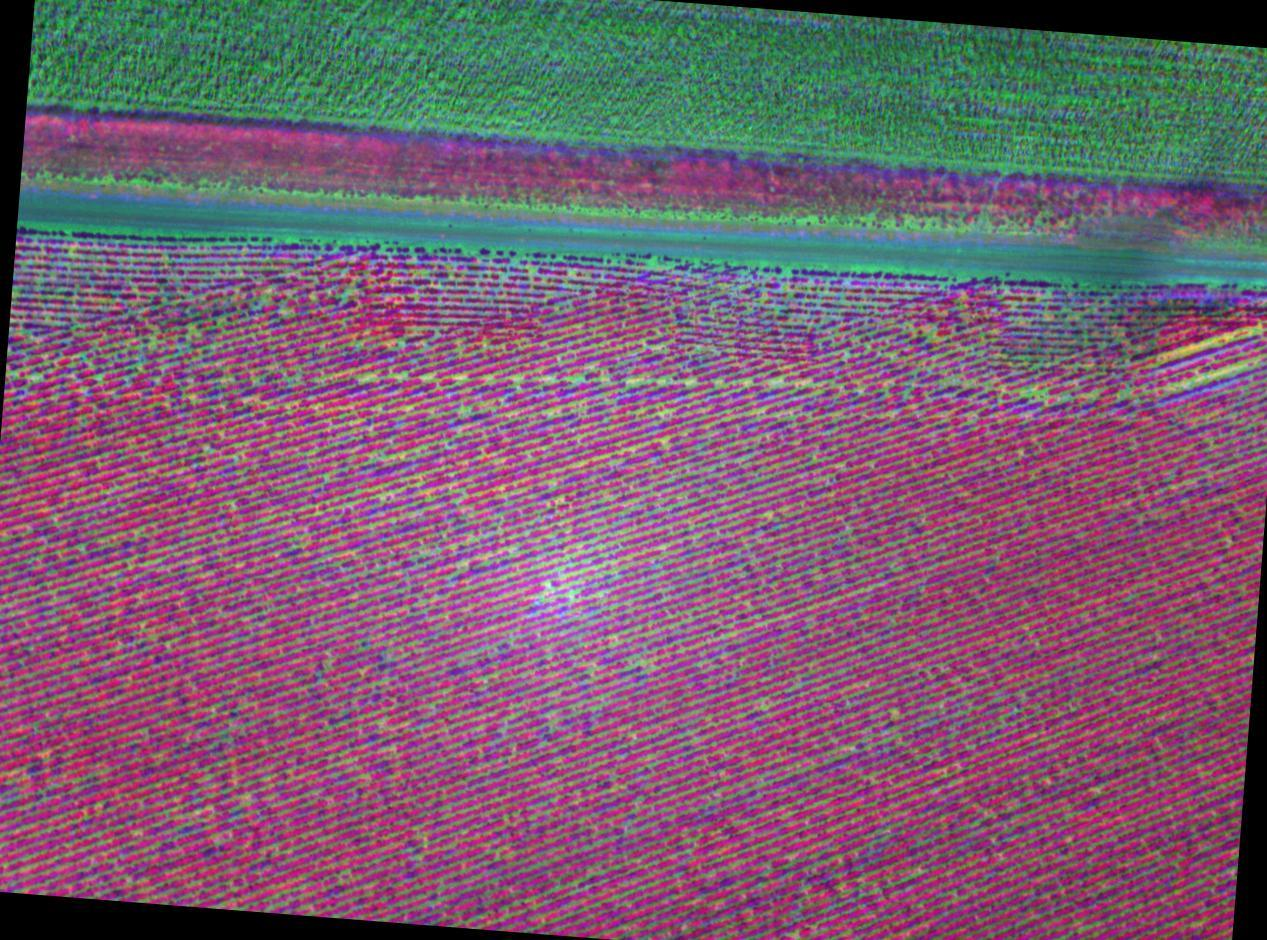dc: (649, 260, 655, 267), (1204, 375, 1210, 381), (1025, 388, 1030, 395), (460, 377, 465, 383), (944, 379, 949, 385), (774, 380, 778, 386)
